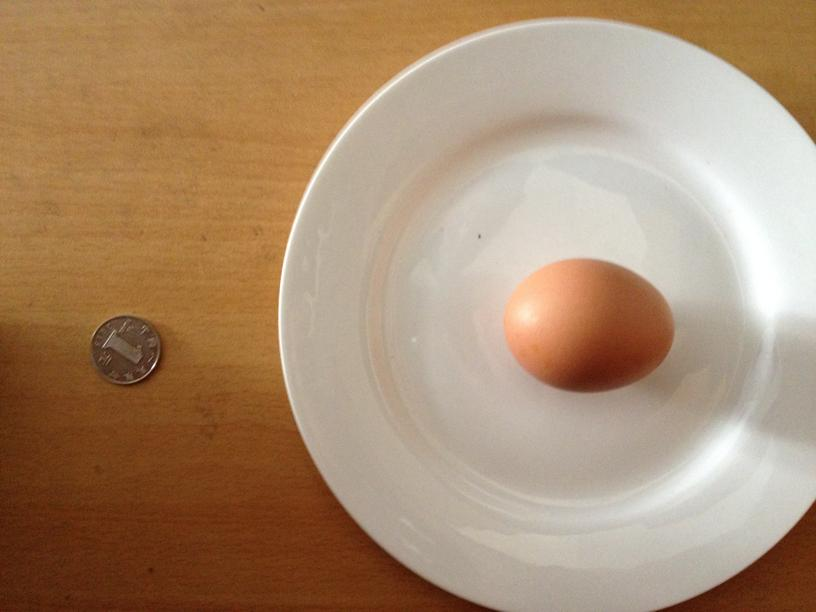coin: (88, 312, 162, 385)
egg: (502, 255, 674, 391)
